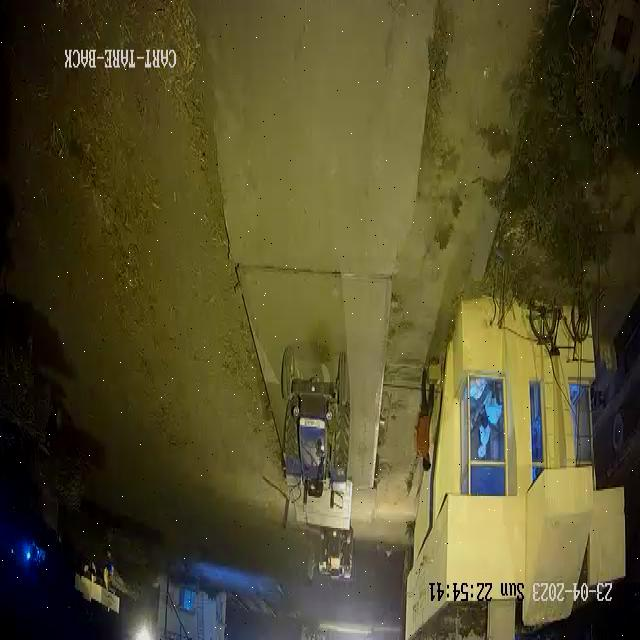Tratores - v5 YOLO V8L 2024-11-13: (276, 334, 350, 486)
